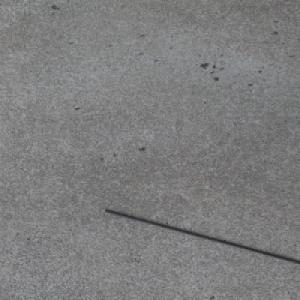LuggagePart: (102, 207, 300, 265)
